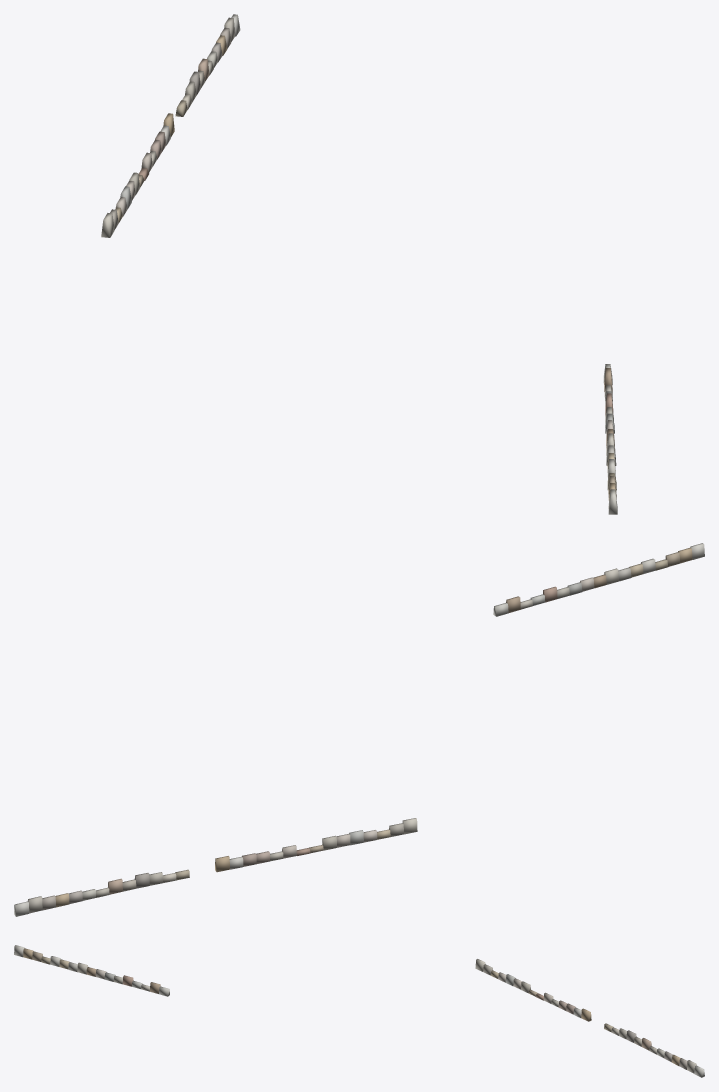
Rendered from farm_-28_-23_collision.glb.
3 views of the same model, one above another, from view 1: azimuth 30°, elevation 25°; view 2: azimuth 150°, elevation 25°; view 3: azimuth 270°, elevation 25° (orthographic). The views are drawn at different scales.
Visible parts, largest first — view 1: geometry_0; view 2: geometry_0; view 3: geometry_0.
Boxes of the visible parts, left/top/right/bottom form: geometry_0: left=101, top=14, right=617, bottom=514; geometry_0: left=14, top=543, right=704, bottom=916; geometry_0: left=14, top=945, right=704, bottom=1077.
Bounding box in the file's own units: 31.95 × 9.42 × 106.
